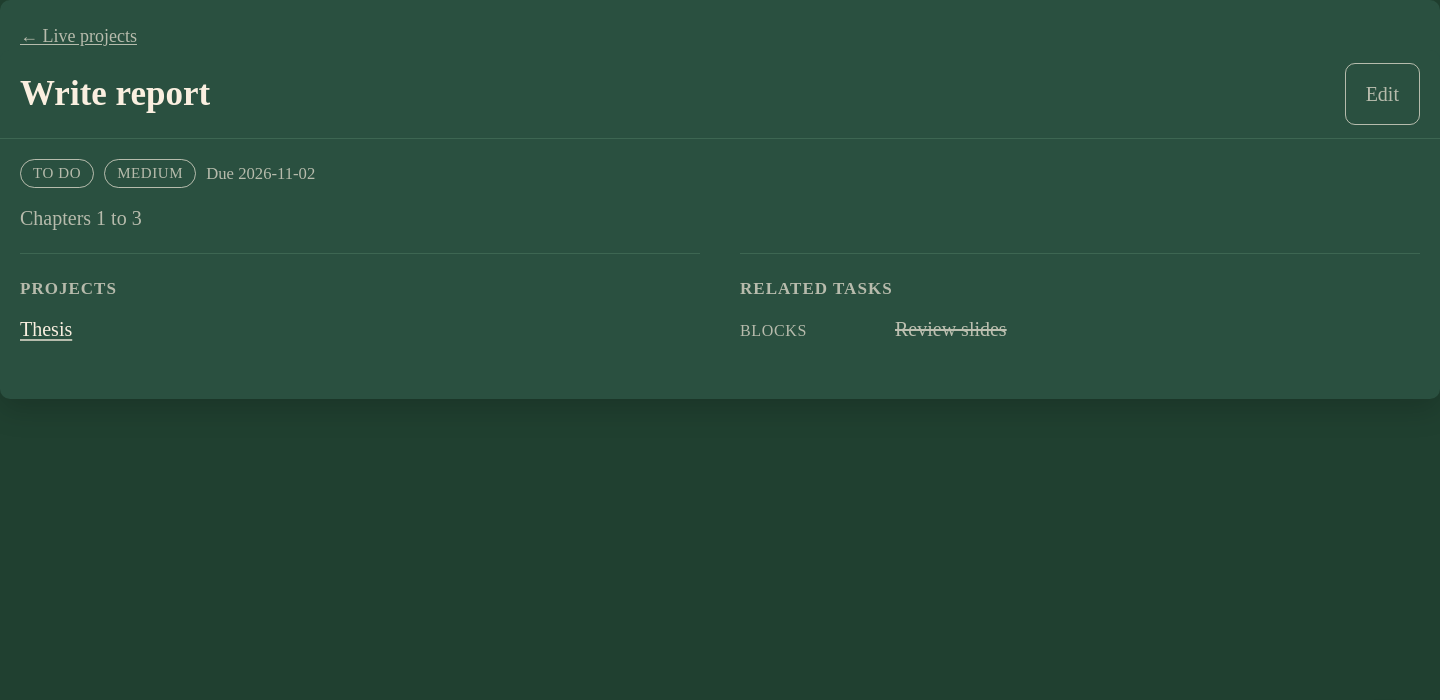
Test case: Dashboard details pages › opens a task's form from its page, and saving returns to the page with the changes
This screenshot has width=1440, height=700.
Click the button "Edit".
click(1382, 94)  # box x1=1345 y1=63 x2=1420 y2=125
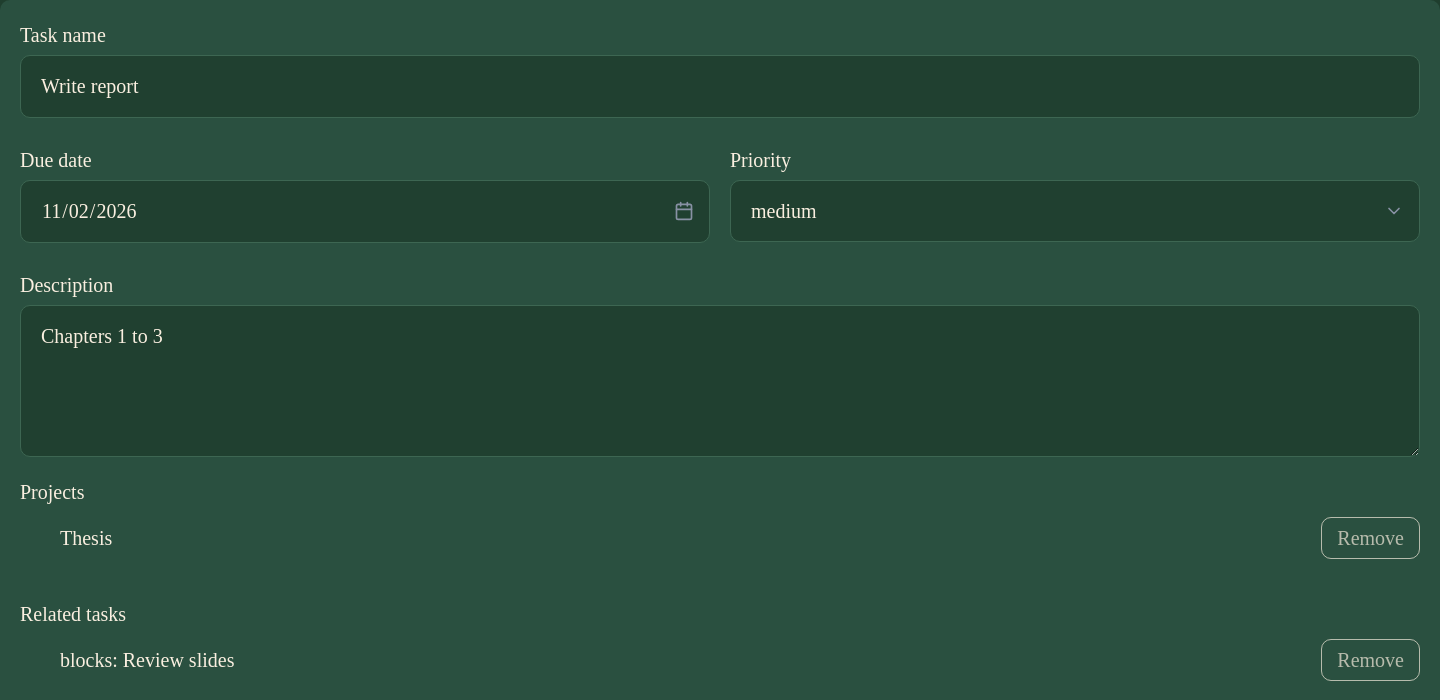
Replace the text in the field with placeholder "Task" with "Write final report" at [720, 86], box x1=20 y1=55 x2=1420 y2=118
(page scrolled)
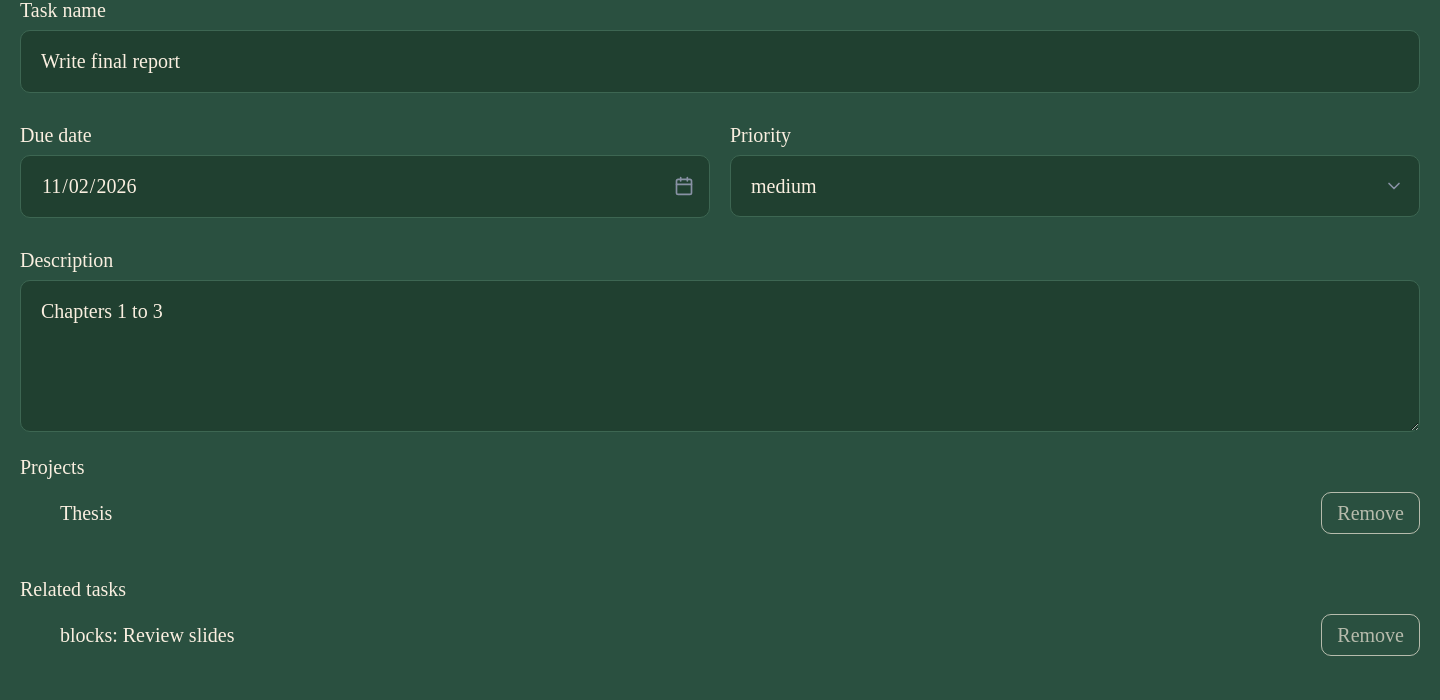
Submit the form
(page scrolled)
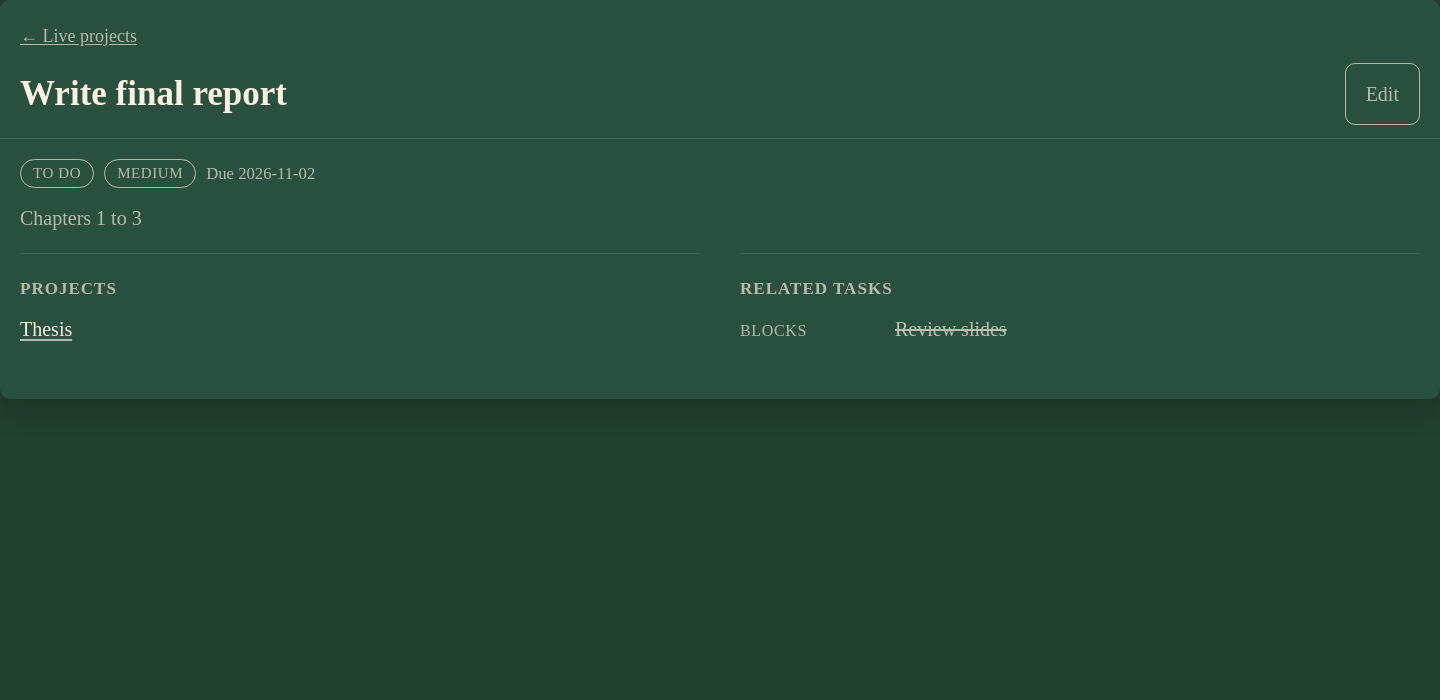
Expected: the heading "Write final report" is shown, x1=20 y1=74 x2=287 y2=114
